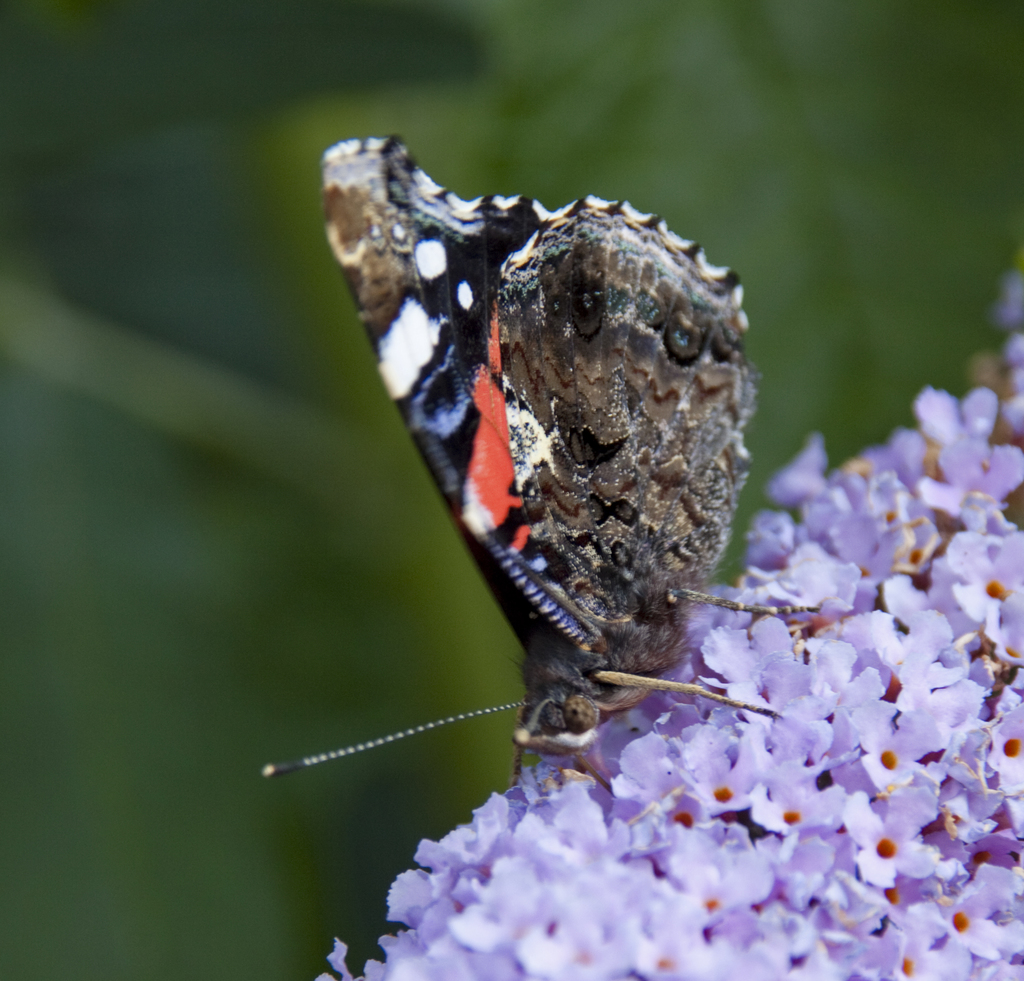Butterfly: (297, 108, 816, 790)
